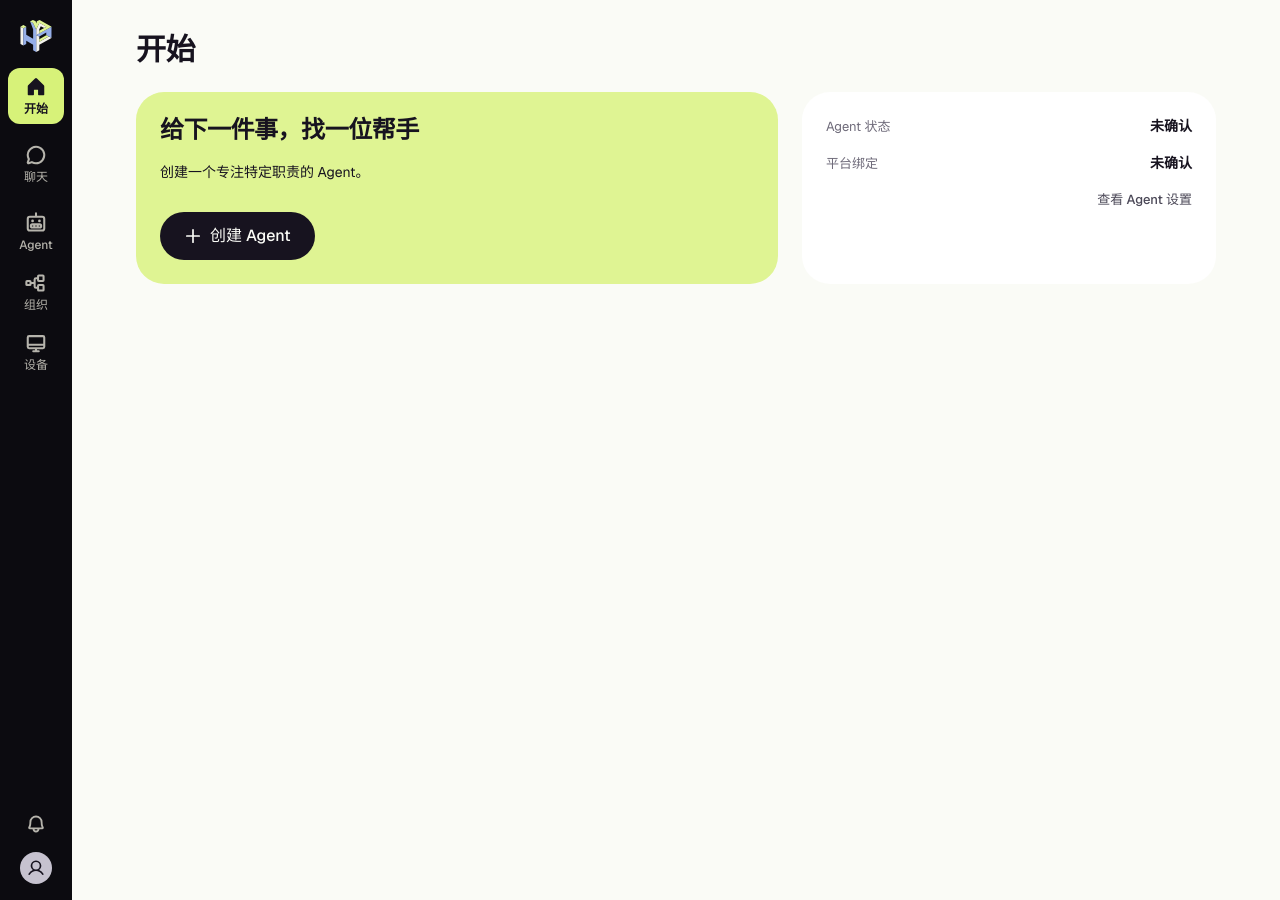
Scenario: agent.secret.provider-list › absent: the credentials tab offers no Key and prints no catalog sentence
Click the button "Agent". click: point(36, 232)
box: [8,204,64,260]
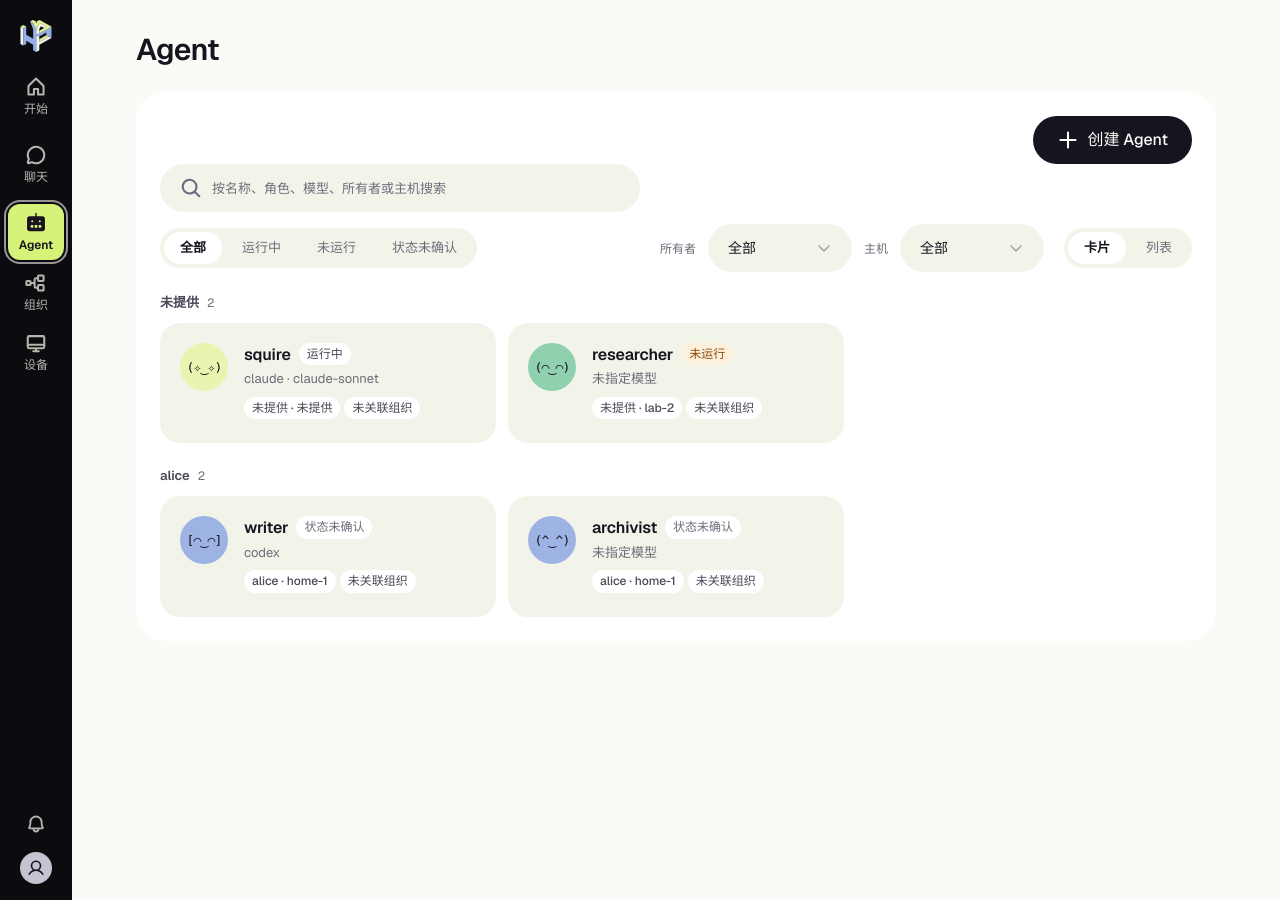
Click the button with test id "contact-researcher". click: point(552, 367)
box: [508,323,844,443]
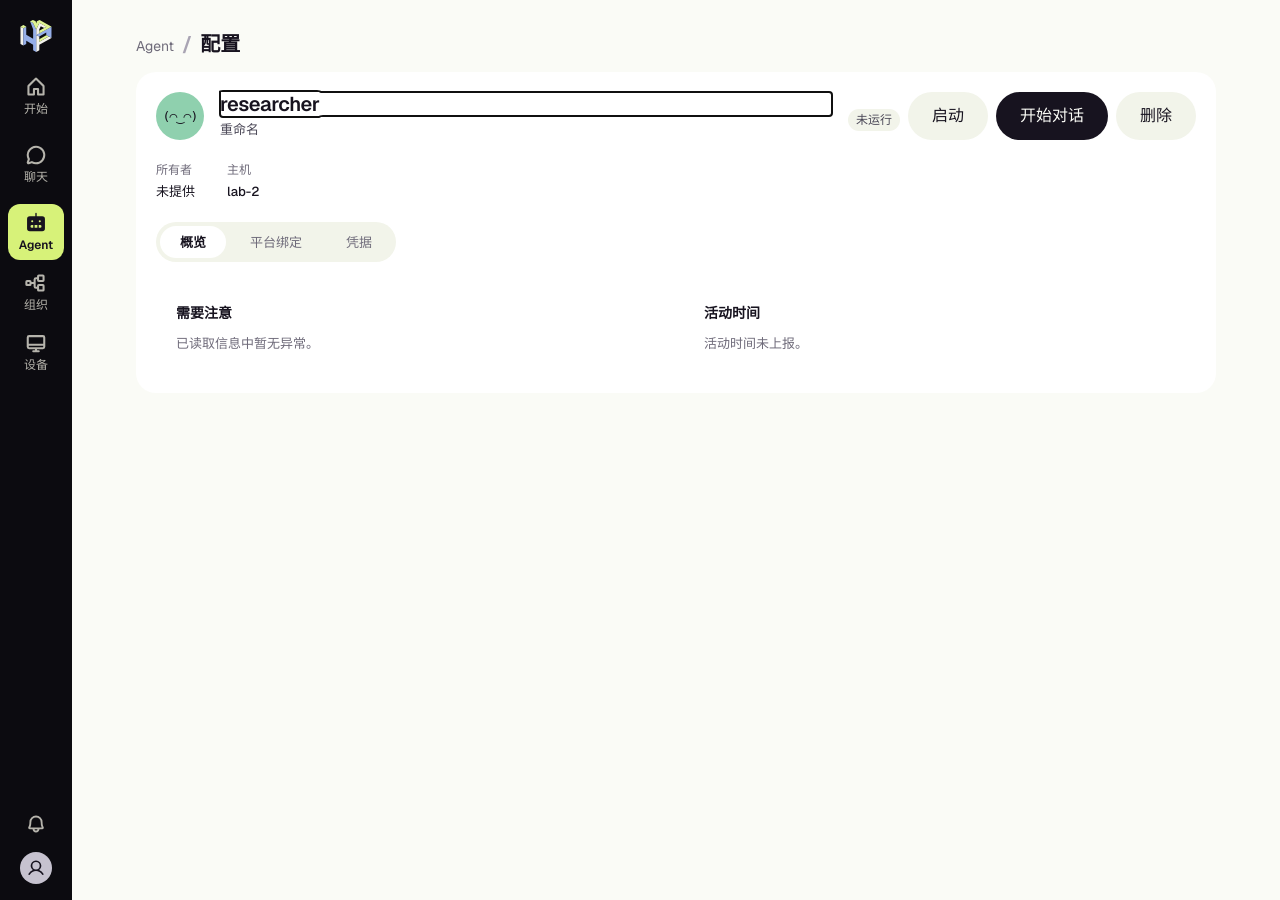
Click the tab "凭据". click: point(359, 242)
box: [326,226,392,258]
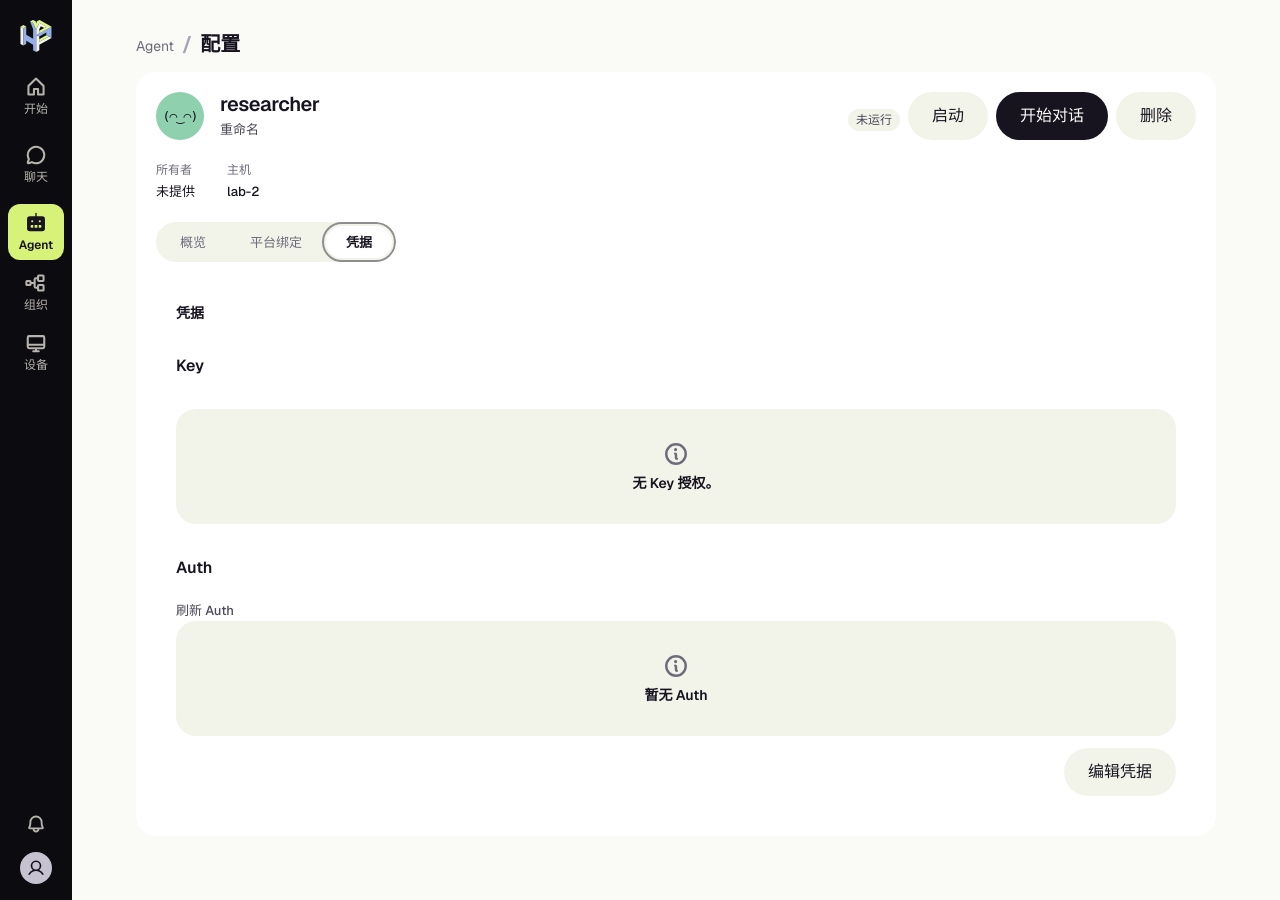
expect the heading "凭据" is shown: met, box [176,304,204,322]
